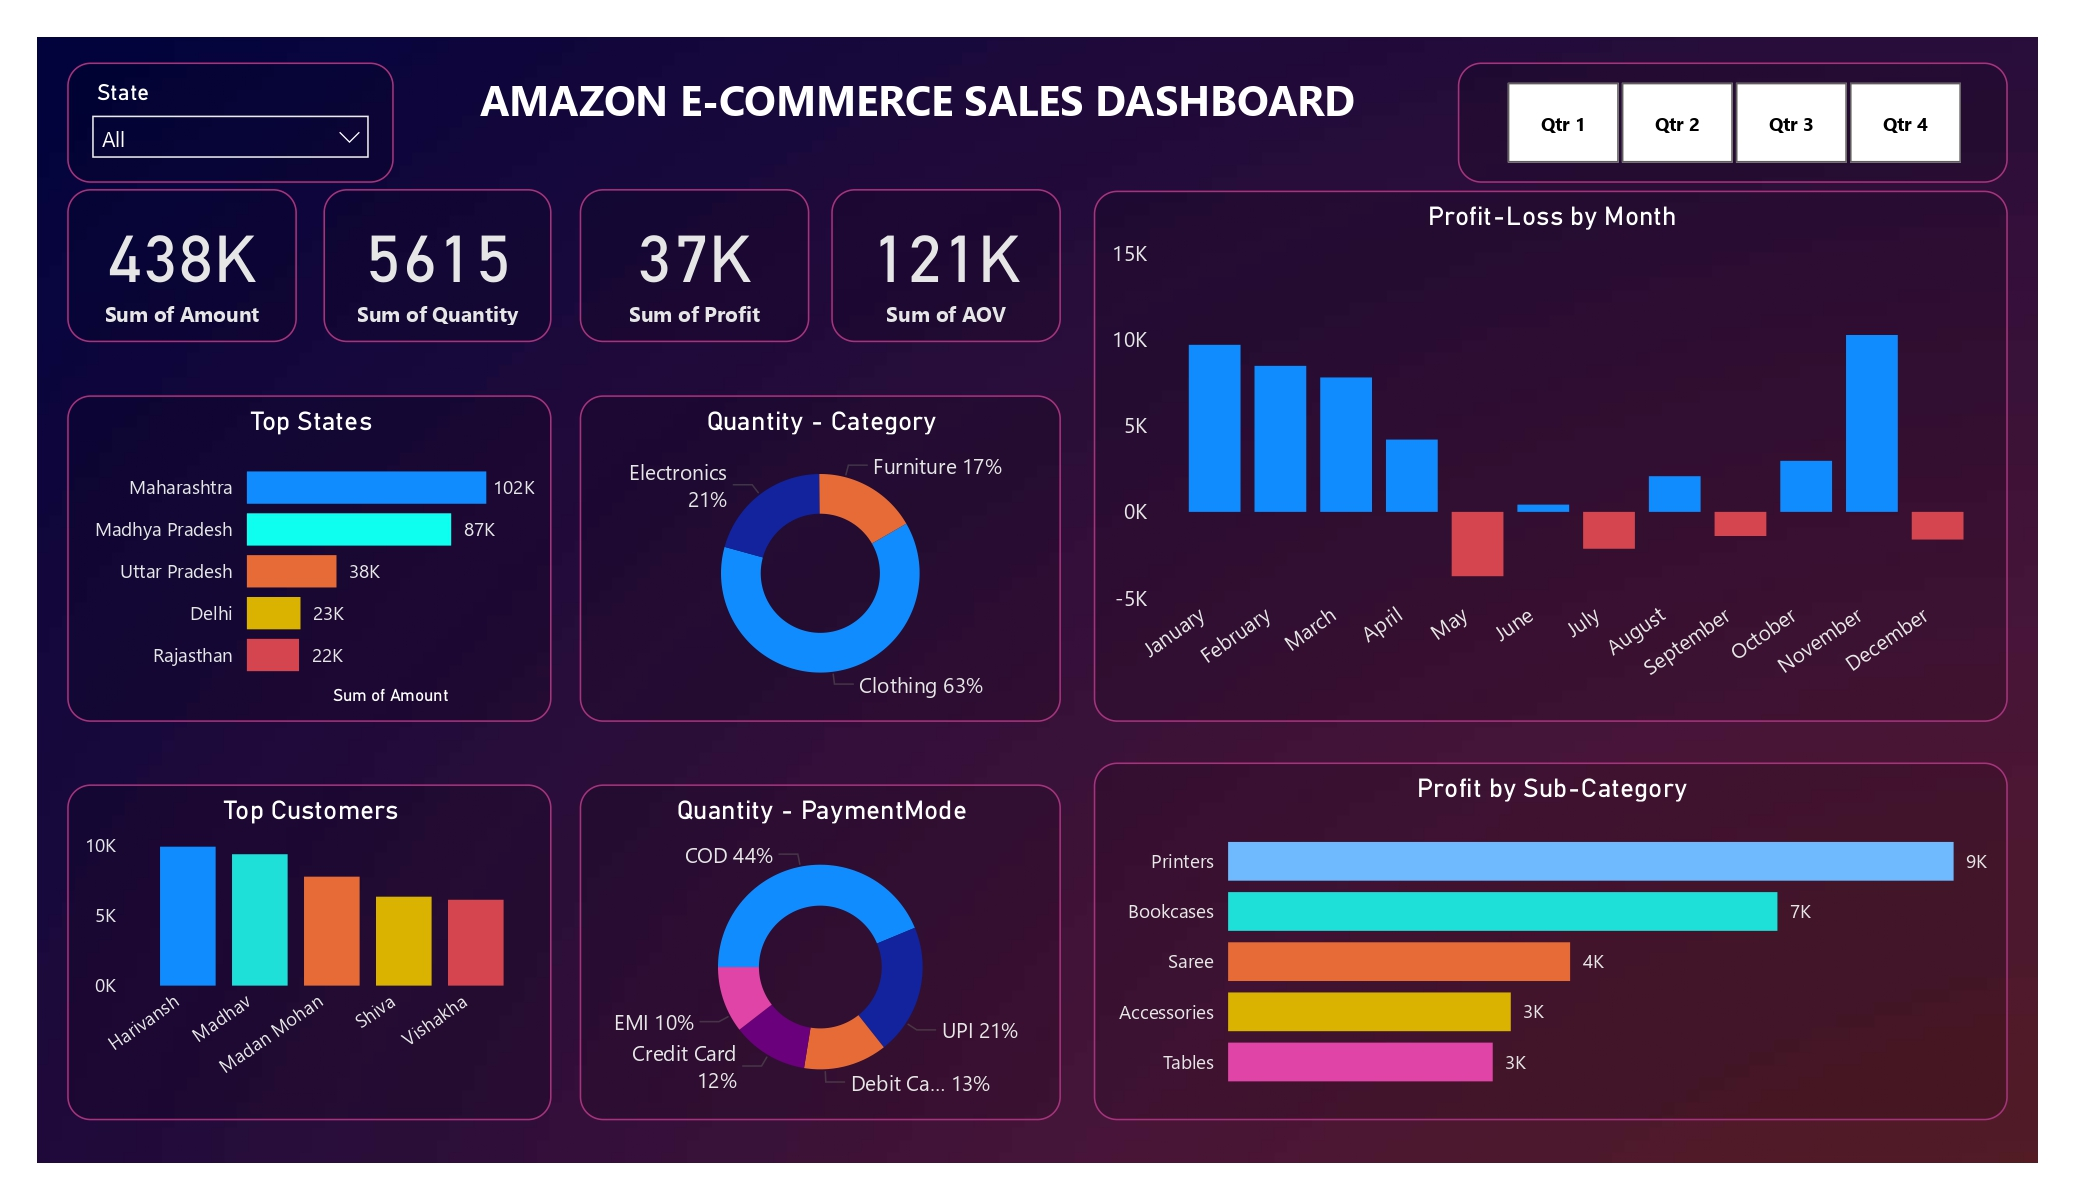

Layout of this report page (visuals, bound fields, positions):
{"tool":"powerbi","page":{"name":"Page 1","canvas":[1280,720],"ordinal":0},"visuals":[{"type":"columnChart","title":"Profit-Loss by Month","fields":{"Y":["Details.Profit"],"Category":["Orders.Order Date.Variation.Date Hierarchy.Month"]},"box":[676.2,97.5,585,340],"z":0},{"type":"clusteredBarChart","title":"Profit by Sub-Category","fields":{"Category":["Details.Sub-Category"],"Y":["Details.Profit"]},"box":[676.2,463.8,585,228.8],"z":1000},{"type":"donutChart","title":"Quantity - Category","fields":{"Category":["Details.Category"],"Y":["Details.Quantity"]},"box":[347.2,229.2,307.4,208.6],"z":2000},{"type":"donutChart","title":"Quantity - PaymentMode","fields":{"Category":["Details.PaymentMode"],"Y":["Details.Quantity"]},"box":[347.2,477.5,307.4,215.4],"z":3000},{"type":"card","fields":{"Values":["Details.Quantity"]},"box":[182.5,97.4,146.8,97.4],"z":4000},{"type":"card","fields":{"Values":["Details.Amount"]},"box":[19.2,97.4,146.8,97.4],"z":5000},{"type":"card","fields":{"Values":["Details.Profit"]},"box":[347.2,97.4,146.8,97.4],"z":6000},{"type":"card","fields":{"Values":["Details.AOV"]},"box":[507.7,97.4,146.8,97.4],"z":7000},{"type":"clusteredBarChart","title":"Top States","fields":{"Category":["Orders.State"],"Y":["Details.Amount"]},"box":[19.2,229.2,310.1,208.6],"z":8000},{"type":"columnChart","title":"Top Customers","fields":{"Category":["Orders.CustomerName"],"Y":["Details.Amount"]},"box":[19,478,310,215],"z":9000},{"type":"slicer","fields":{"Values":["Orders.Order Date.Variation.Date Hierarchy.Quarter"]},"box":[908.8,16.2,352.5,76.2],"z":10000},{"type":"slicer","fields":{"Values":["Orders.State"]},"box":[18.8,16.2,208.8,76.2],"z":11000},{"type":"textbox","box":[277.5,16.2,585,70],"z":11001}]}

Visuals, with their boxes on the page's 1280x720 design canvas (x1, y1, x2, y2). These are canvas units, not pixel positions in the 2075x1200 screenshot, which may show the page scaled, cropped or inside an application window:
"Profit-Loss by Month" columnChart: [left=676, top=98, right=1261, bottom=438]
"Profit by Sub-Category" clusteredBarChart: [left=676, top=464, right=1261, bottom=693]
"Quantity - Category" donutChart: [left=347, top=229, right=655, bottom=438]
"Quantity - PaymentMode" donutChart: [left=347, top=478, right=655, bottom=693]
card - Details.Quantity: [left=182, top=97, right=329, bottom=195]
card - Details.Amount: [left=19, top=97, right=166, bottom=195]
card - Details.Profit: [left=347, top=97, right=494, bottom=195]
card - Details.AOV: [left=508, top=97, right=654, bottom=195]
"Top States" clusteredBarChart: [left=19, top=229, right=329, bottom=438]
"Top Customers" columnChart: [left=19, top=478, right=329, bottom=693]
slicer - Orders.Order Date.Variation.Date Hierarchy.Quarter: [left=909, top=16, right=1261, bottom=92]
slicer - Orders.State: [left=19, top=16, right=228, bottom=92]
textbox: [left=278, top=16, right=862, bottom=86]
